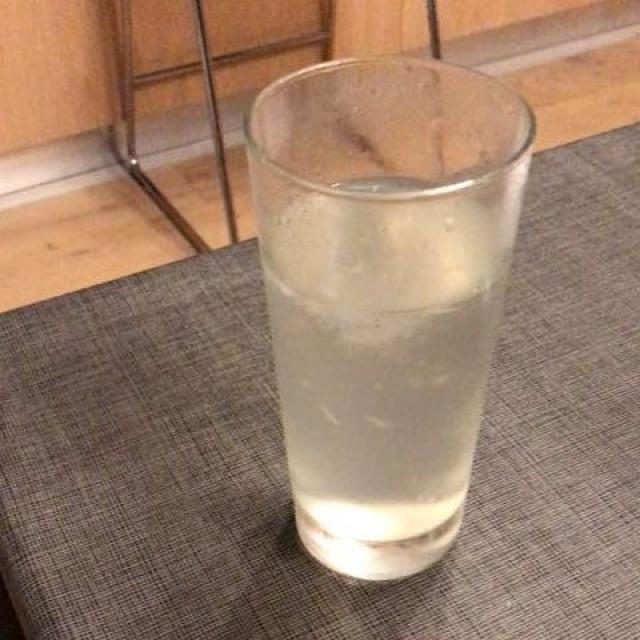drink: (278, 187, 510, 538)
